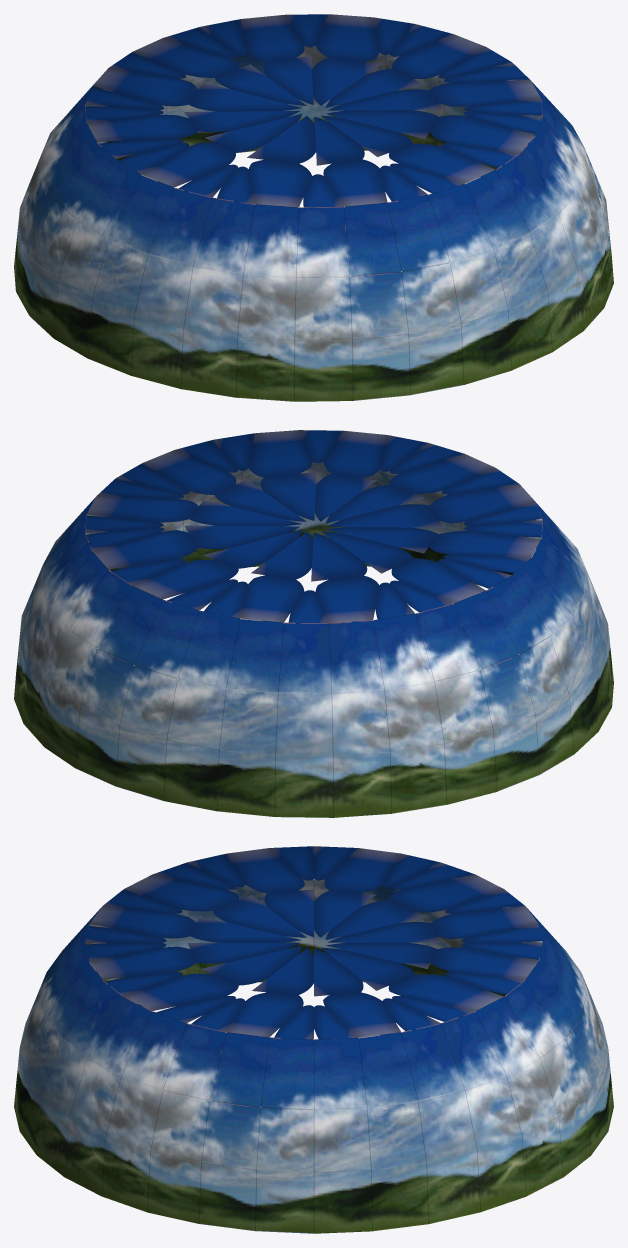
3 views of the same model, one above another, from view 1: azimuth 30°, elevation 25°; view 2: azimuth 150°, elevation 25°; view 3: azimuth 270°, elevation 25° (orthographic).
Visible parts, largest first — view 1: T1L2M009_54; view 2: T1L2M009_54; view 3: T1L2M009_54.
Part boxes in pixels (x1,y1,x2,y2): T1L2M009_54: (14, 14, 613, 401); T1L2M009_54: (14, 430, 613, 817); T1L2M009_54: (14, 846, 613, 1233).
Size of the model in its own units: 3 by 0.9053 by 3.
